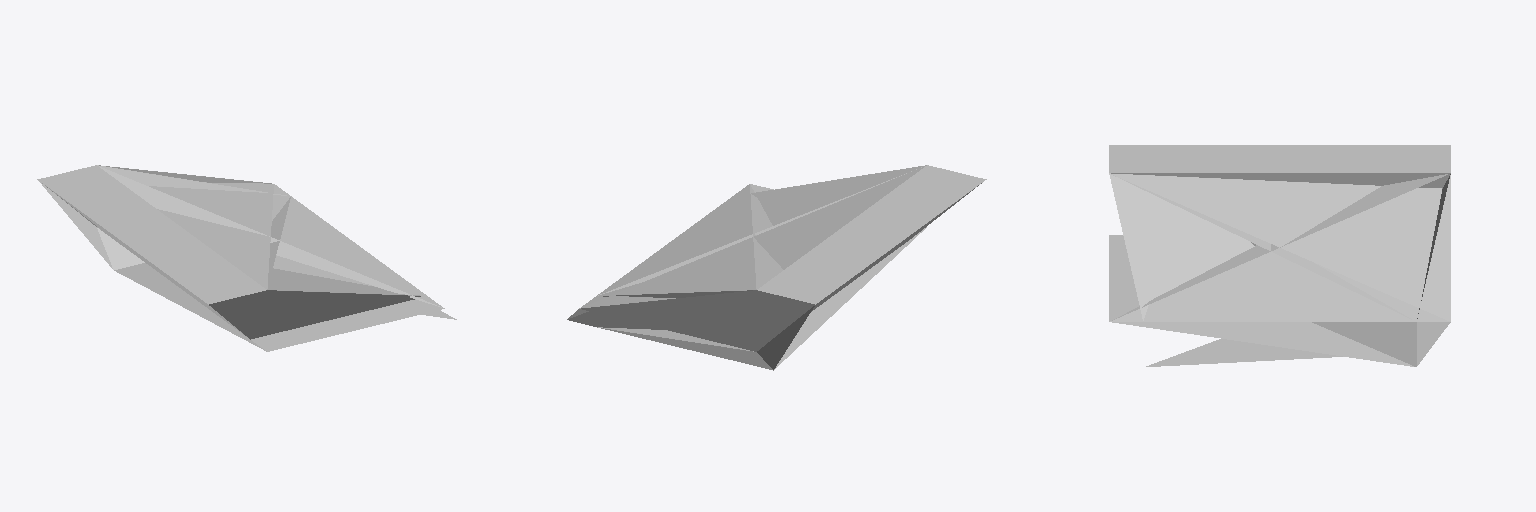
File: Med Bay Stool.obj
3 renders of one model, left to right at view 1: azimuth 30°, elevation 25°; view 2: azimuth 150°, elevation 25°; view 3: azimuth 270°, elevation 25°, orthographic.
Size of the model in its own units: 9 by 3 by 10.